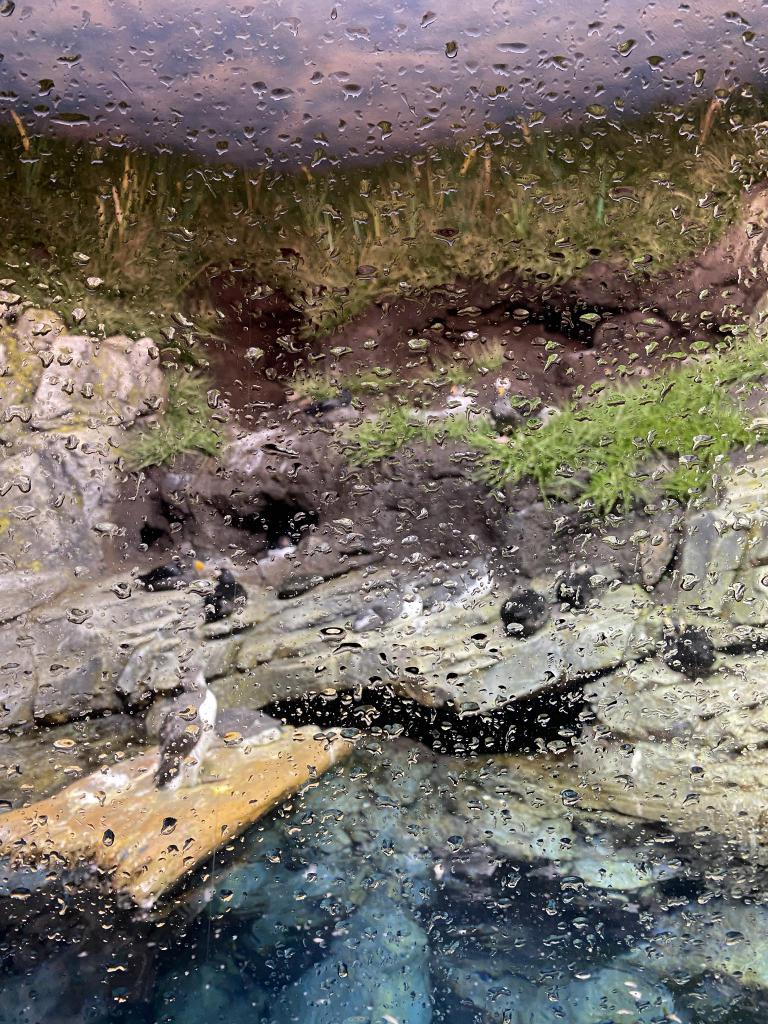puffin: (154, 670, 222, 786), (362, 587, 422, 631), (201, 568, 245, 622), (503, 584, 545, 634), (672, 628, 714, 676), (140, 556, 202, 588), (438, 568, 490, 606), (556, 569, 596, 611), (305, 388, 357, 420), (492, 384, 526, 428), (446, 383, 475, 407)
